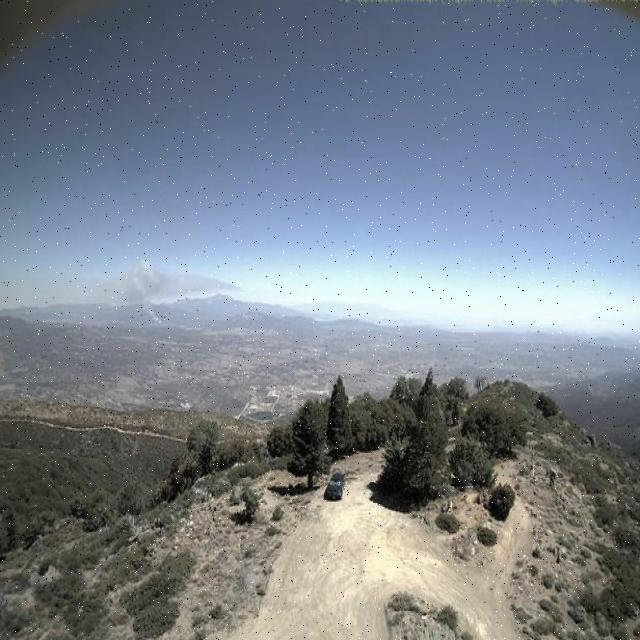smoke: (88, 256, 242, 329)
